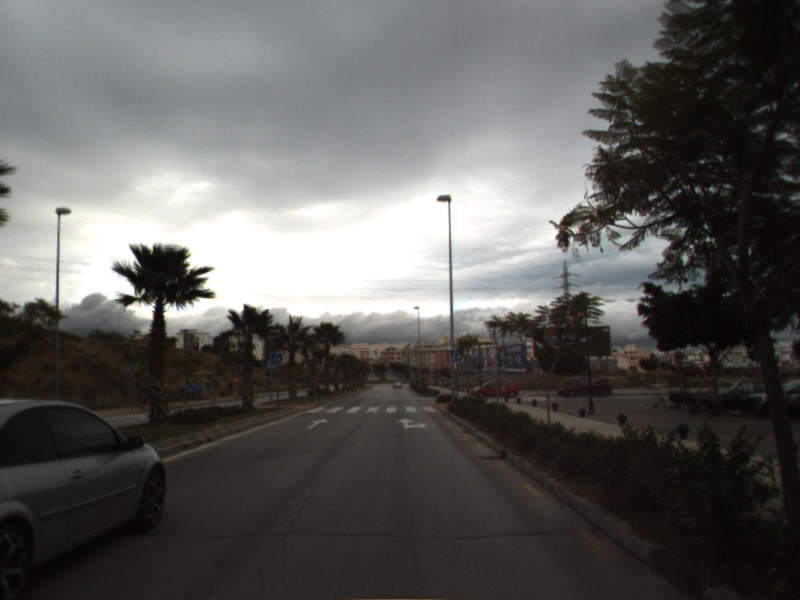STRAIGHT: (305, 416, 330, 431)
STRAIGHT_RIGHT: (395, 416, 430, 431)
